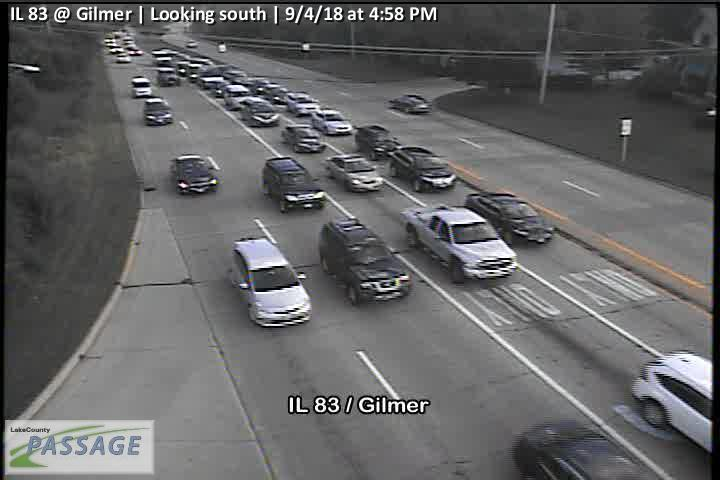SUV: (631, 352, 720, 455), (316, 215, 412, 306), (231, 236, 312, 328), (261, 156, 327, 215), (391, 147, 458, 194), (355, 124, 402, 163), (240, 98, 281, 127), (224, 84, 251, 110), (130, 77, 154, 98)
Sedan: (400, 202, 519, 282), (513, 418, 653, 480), (464, 191, 554, 249), (325, 153, 384, 194), (174, 155, 218, 197), (280, 123, 327, 154), (311, 107, 353, 135), (388, 93, 434, 115), (285, 93, 320, 116), (145, 98, 172, 125)
